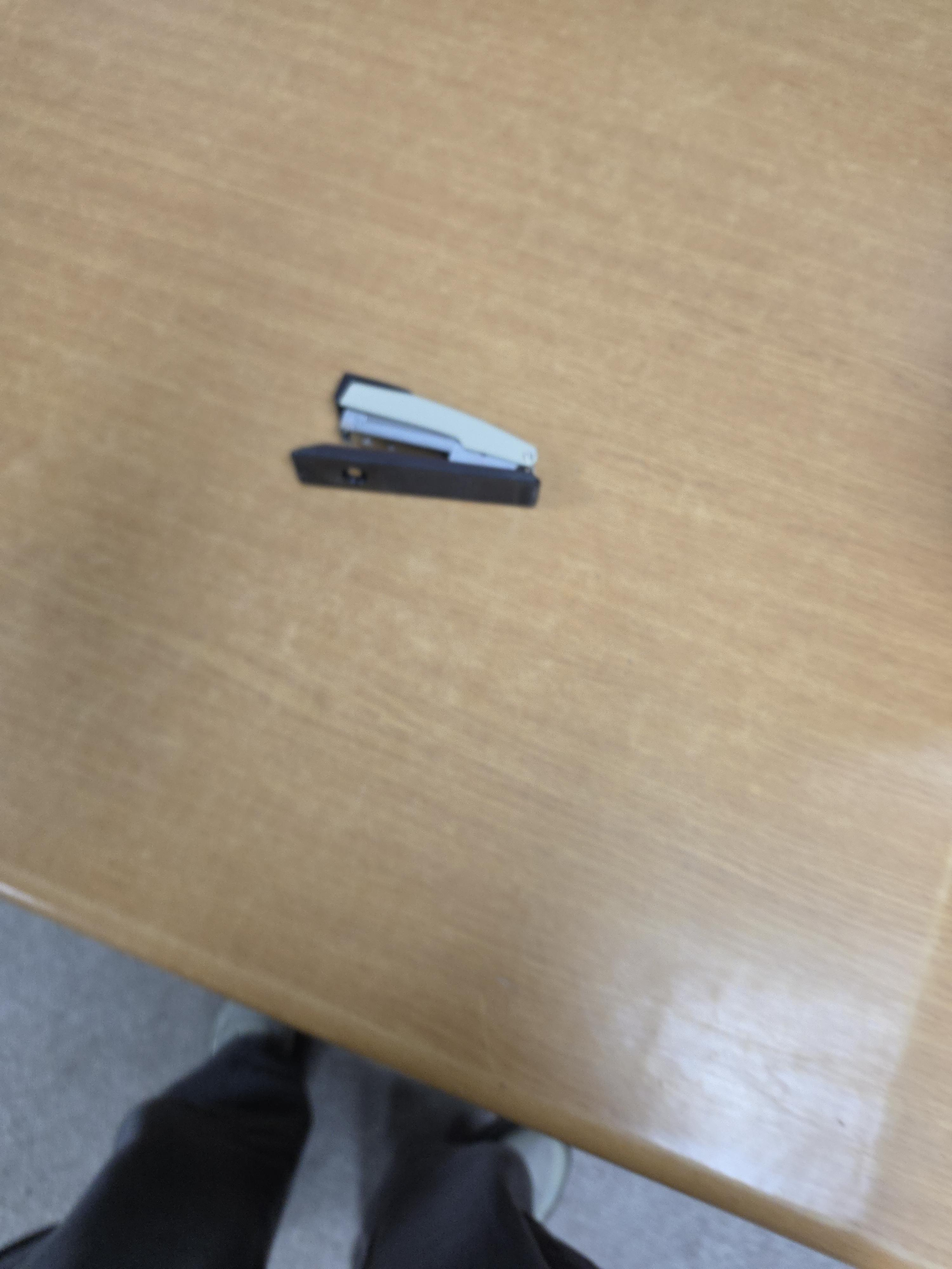stapler: (288, 372, 542, 509)
